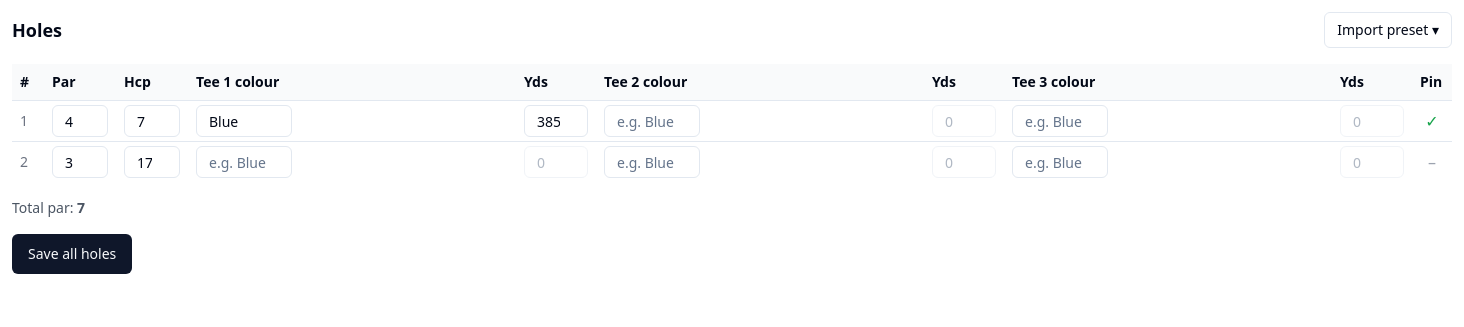
Test case: HoleEditor › shows error when saveHolesAction returns error
Click the button "Save all holes". click: [72, 254]
box: [12, 234, 132, 274]
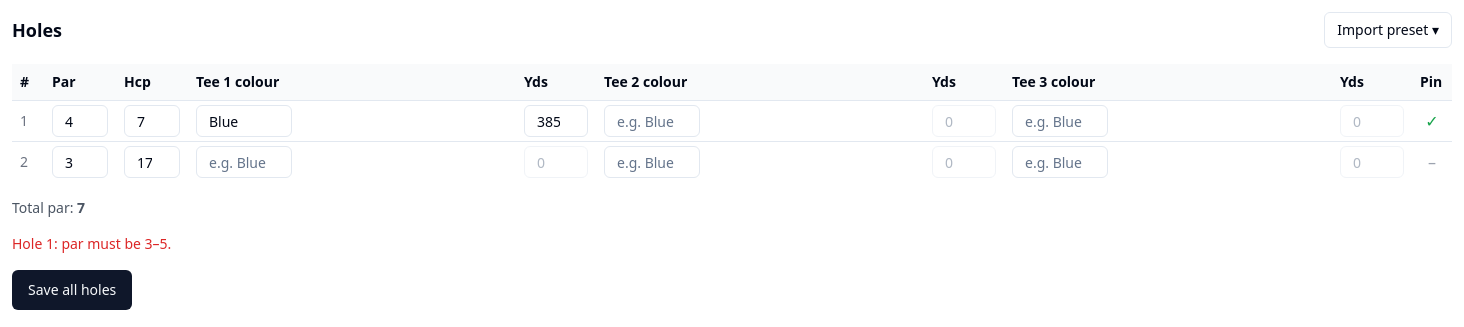
Expected: the message reads "Hole 1: par must be 3–5.", [12, 234, 171, 253]
